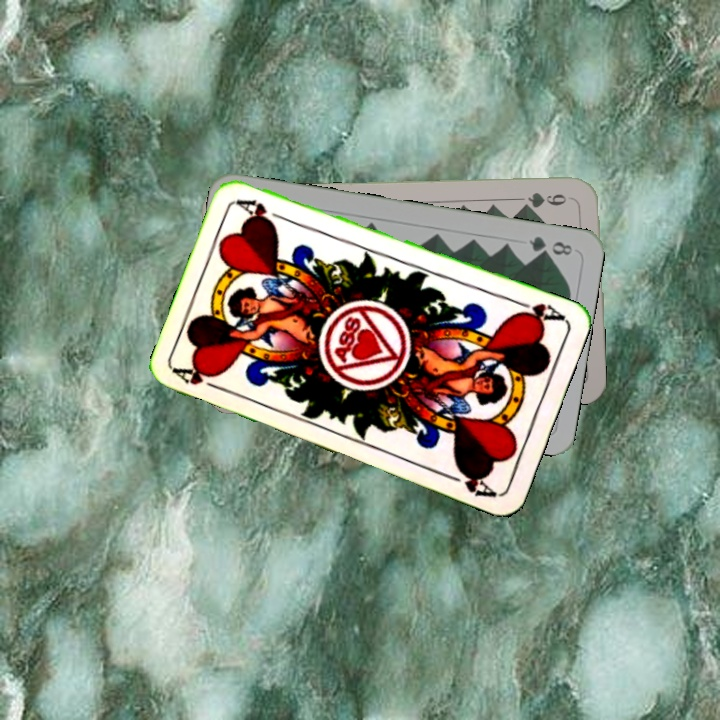G8: (524, 232, 575, 258)
G9: (517, 188, 575, 211)
HA: (171, 363, 229, 395), (509, 295, 567, 326)
